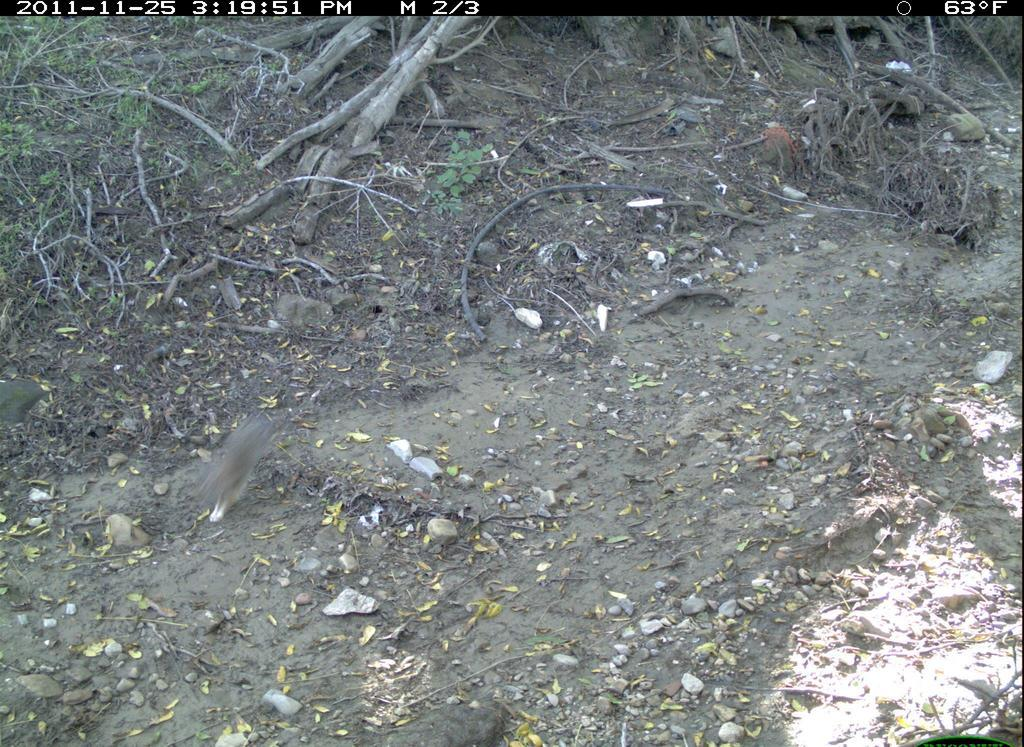rabbit: (172, 411, 297, 539)
